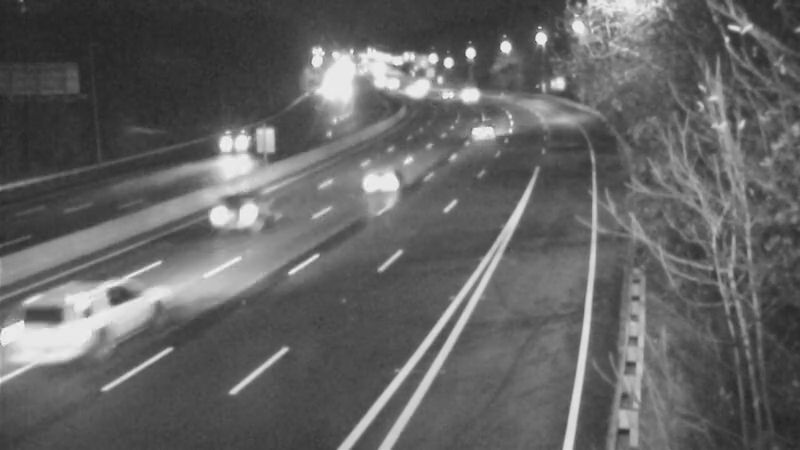vehicle: (192, 95, 302, 205), (1, 280, 108, 390), (337, 138, 417, 218), (210, 170, 290, 250), (443, 71, 493, 121), (452, 106, 502, 156)
